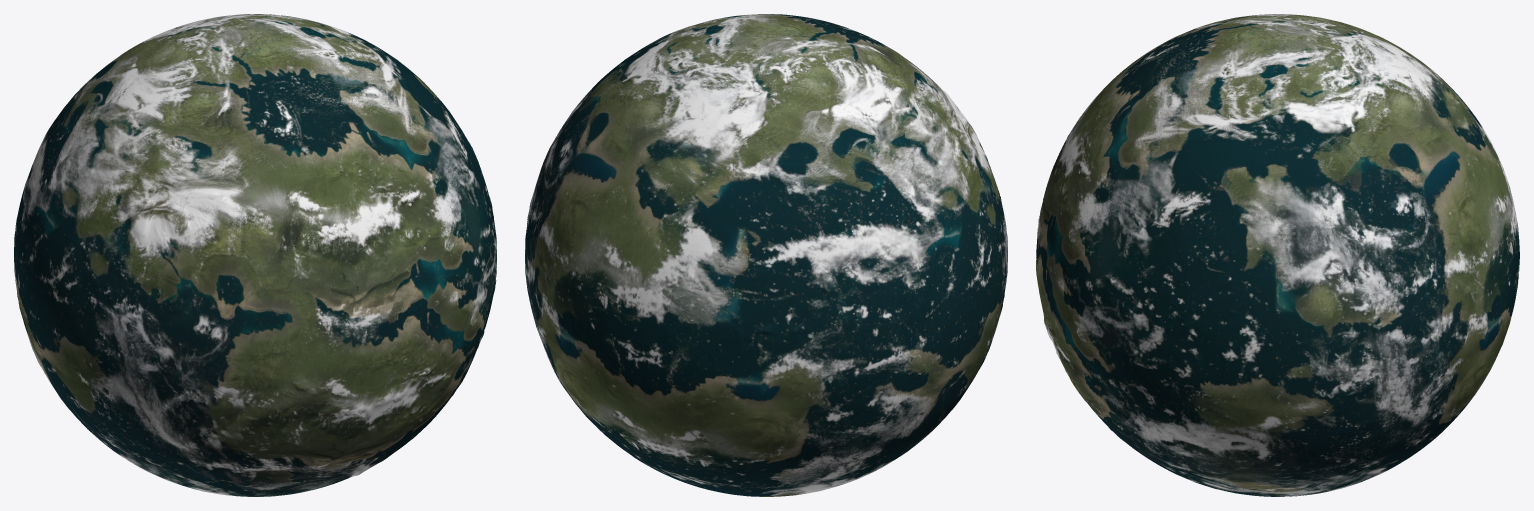
File: Reach.glb
The picture shows the model from 3 angles, left to right: view 1: azimuth 30°, elevation 25°; view 2: azimuth 150°, elevation 25°; view 3: azimuth 270°, elevation 25°; orthographic projection.
Bounding box in the file's own units: 1.9 × 1.9 × 1.9.
Materials: 1 (1 with a texture image).
